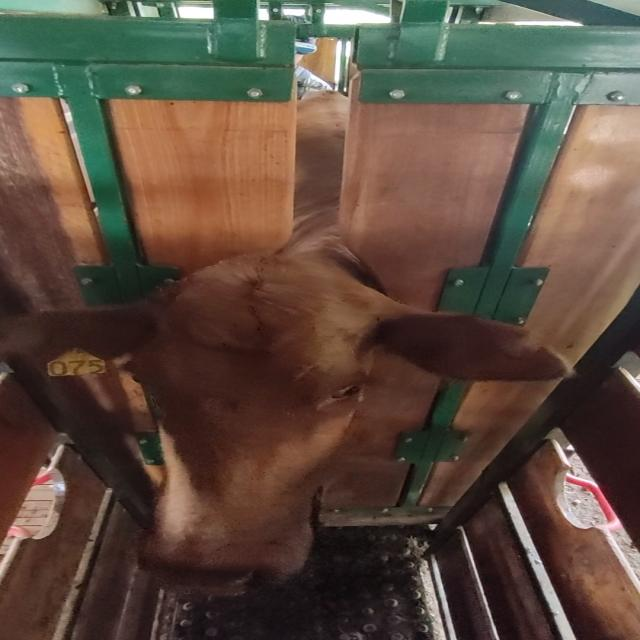cowFace: (129, 258, 369, 600)
